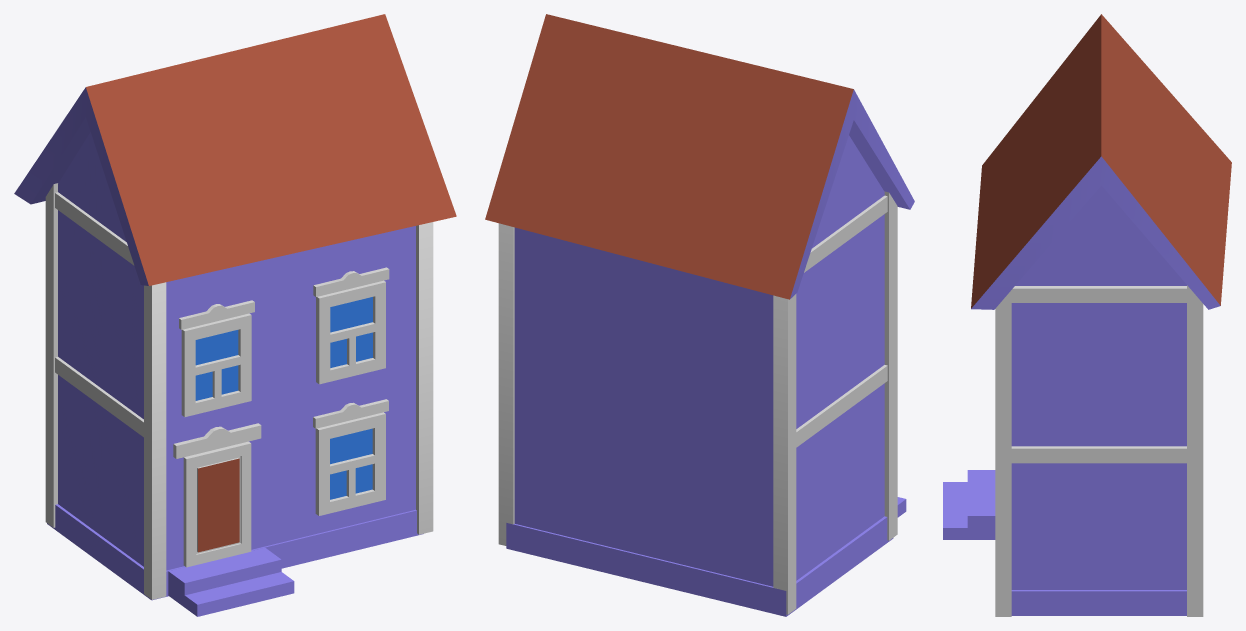
Rendered from HouseTwo.fbx.
3 renders of one model, left to right at view 1: azimuth 30°, elevation 25°; view 2: azimuth 150°, elevation 25°; view 3: azimuth 270°, elevation 25°, orthographic. The views are drawn at different scales.
Parts seen in each view (by area): view 1: Cube.004; view 2: Cube.004; view 3: Cube.004.
Part boxes in pixels (bbox=[...]): Cube.004: bbox=[14, 14, 456, 616]; Cube.004: bbox=[485, 14, 914, 616]; Cube.004: bbox=[943, 14, 1231, 616].
Bounding box in the file's own units: 101 × 150 × 84.13.
